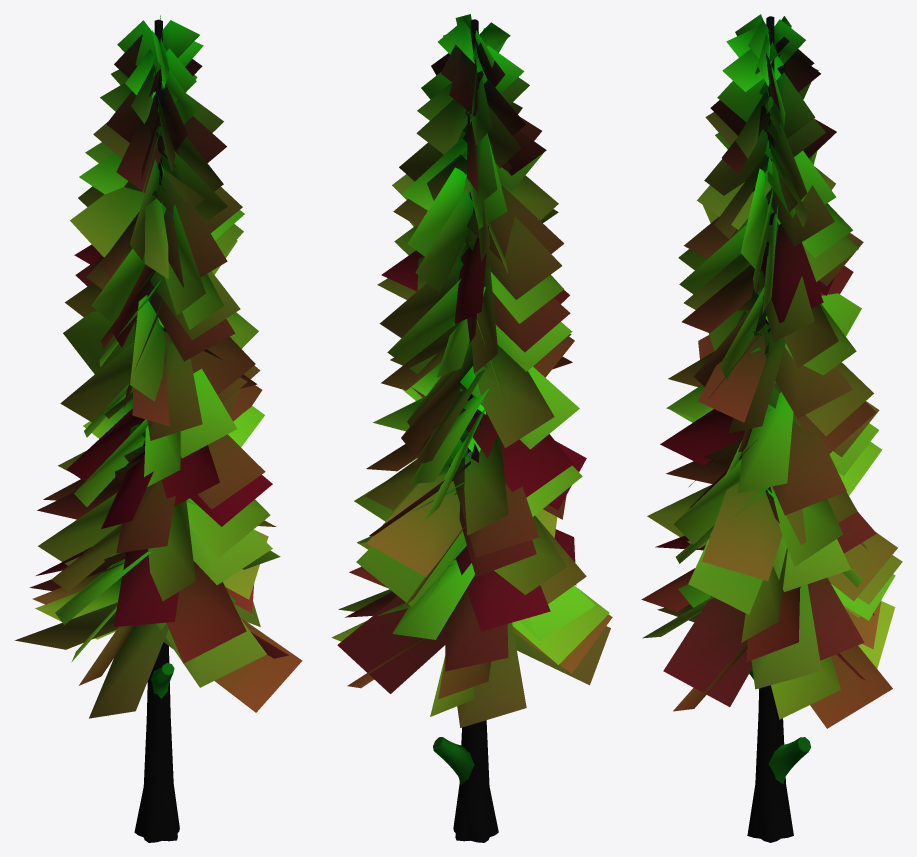
Rendered from M_Pine_2_3.fbx.
The picture shows the model from 3 angles, left to right: view 1: azimuth 30°, elevation 25°; view 2: azimuth 150°, elevation 25°; view 3: azimuth 270°, elevation 25°; orthographic projection.
Visible parts, largest first — view 1: Tree_3; view 2: Tree_3; view 3: Tree_3.
Part boxes in pixels (bbox=[...]): Tree_3: bbox=[14, 15, 302, 842]; Tree_3: bbox=[331, 14, 612, 842]; Tree_3: bbox=[641, 14, 902, 842].
Bounding box in the file's own units: 848 × 2946 × 855.
